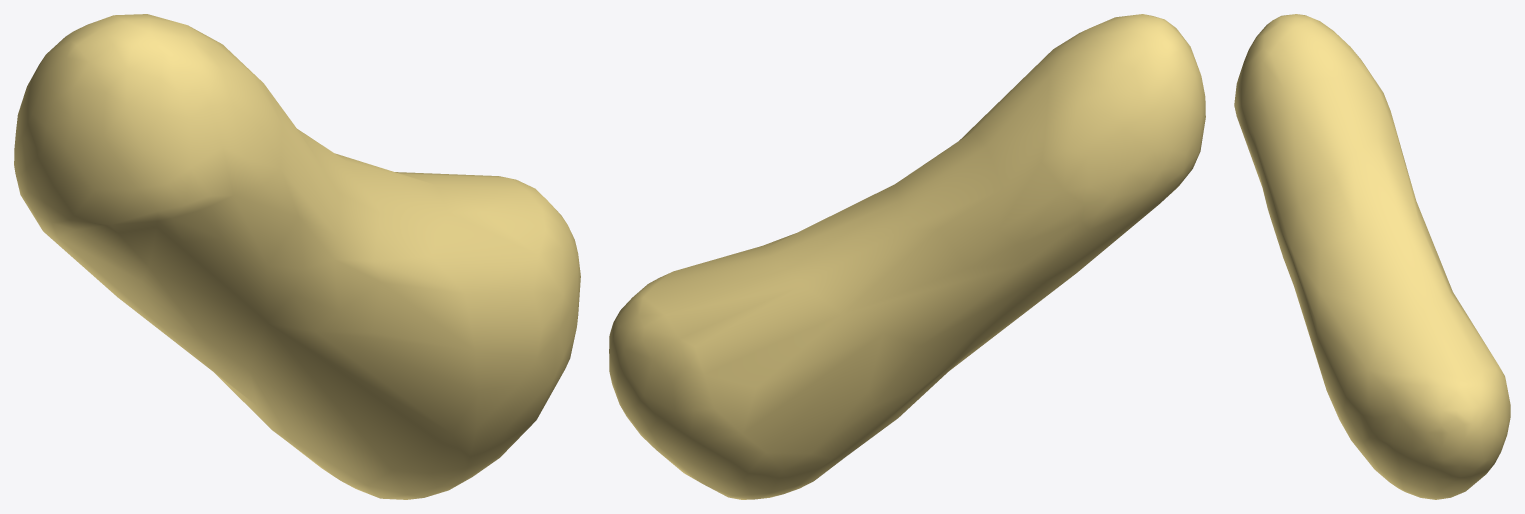
File: fma73463.glb
The picture shows the model from 3 angles, left to right: view 1: azimuth 30°, elevation 25°; view 2: azimuth 150°, elevation 25°; view 3: azimuth 270°, elevation 25°; orthographic projection. The views are drawn at different scales.
Visible parts, largest first — view 1: FMA73463; view 2: FMA73463; view 3: FMA73463.
Boxes of the visible parts, left/top/right/bottom form: FMA73463: left=14, top=14, right=580, bottom=499; FMA73463: left=609, top=14, right=1205, bottom=499; FMA73463: left=1234, top=14, right=1510, bottom=499.
Size of the model in its own units: 0.0112 by 0.0106 by 0.00728.
